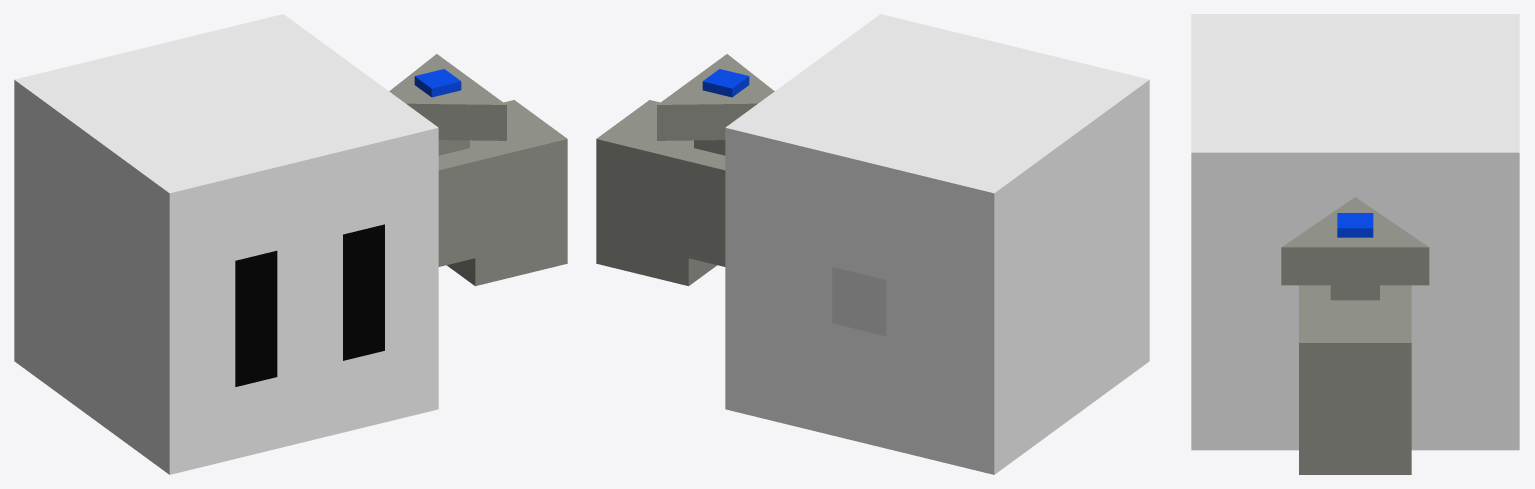
Rendered from zyaguti.glb.
The picture shows the model from 3 angles, left to right: view 1: azimuth 30°, elevation 25°; view 2: azimuth 150°, elevation 25°; view 3: azimuth 270°, elevation 25°; orthographic projection. The views are drawn at different scales.
Visible parts, largest first — view 1: pCube1, pCube4, pPlane5, pPlane1, pPlane2; view 2: pCube1, pCube4, pPlane5, pPlane3; view 3: pCube1, pCube4, pPlane5, pCube5.
Boxes of the visible parts, x1,y1,x2,y2 form: pCube1: (14, 14, 438, 474); pCube4: (438, 100, 567, 286); pPlane5: (389, 54, 506, 140); pPlane1: (235, 250, 277, 386); pPlane2: (343, 224, 384, 360); pCube1: (725, 14, 1149, 474); pCube4: (596, 100, 725, 286); pPlane5: (657, 54, 774, 140); pPlane3: (832, 267, 886, 336); pCube1: (1191, 14, 1519, 450); pCube4: (1299, 285, 1411, 474); pPlane5: (1281, 197, 1429, 285); pCube5: (1330, 285, 1379, 300).
Bounding box in the file's own units: 0.0834 × 0.05 × 0.0521.
2 materials, 1 textured.
